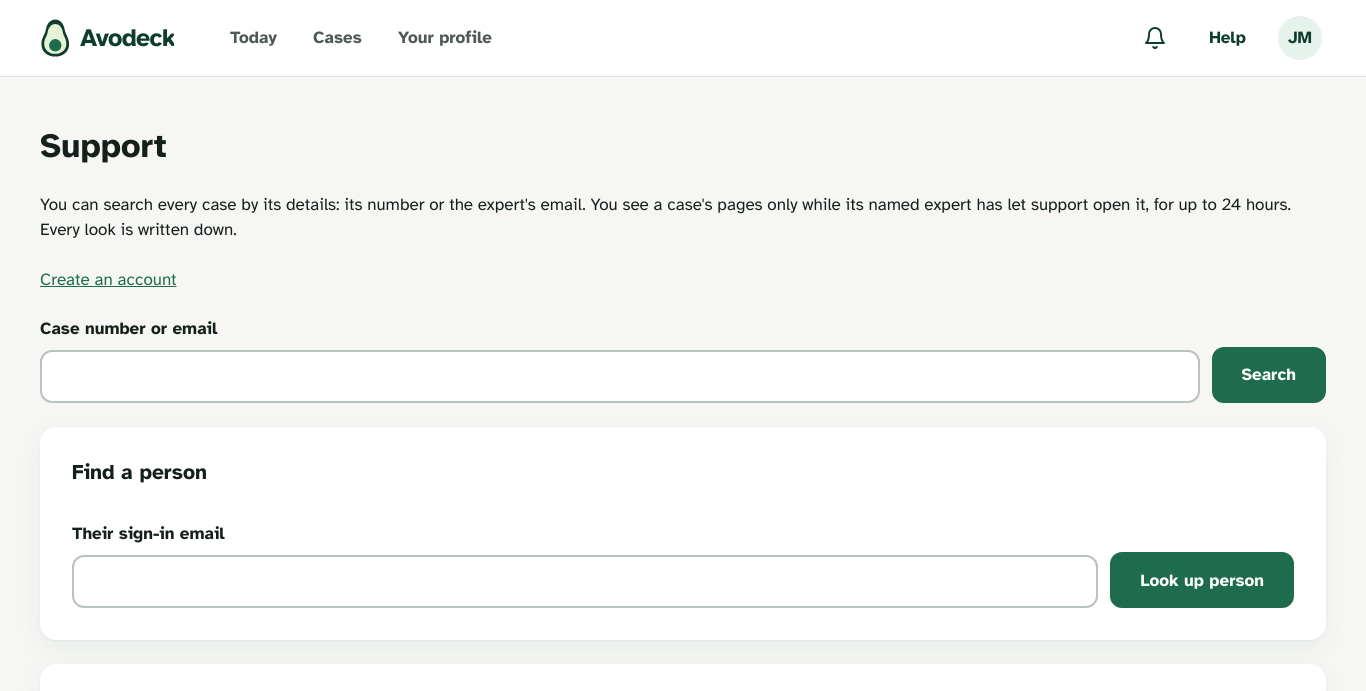
Test: the status is shown in plain words, never the raw code
Type "44444444-4444-4444-8444-444444444444" into the field labelled "Case number or email".
click(620, 376); type("44444444-4444-4444-8444-444444444444")  # box [40,350,1200,403]
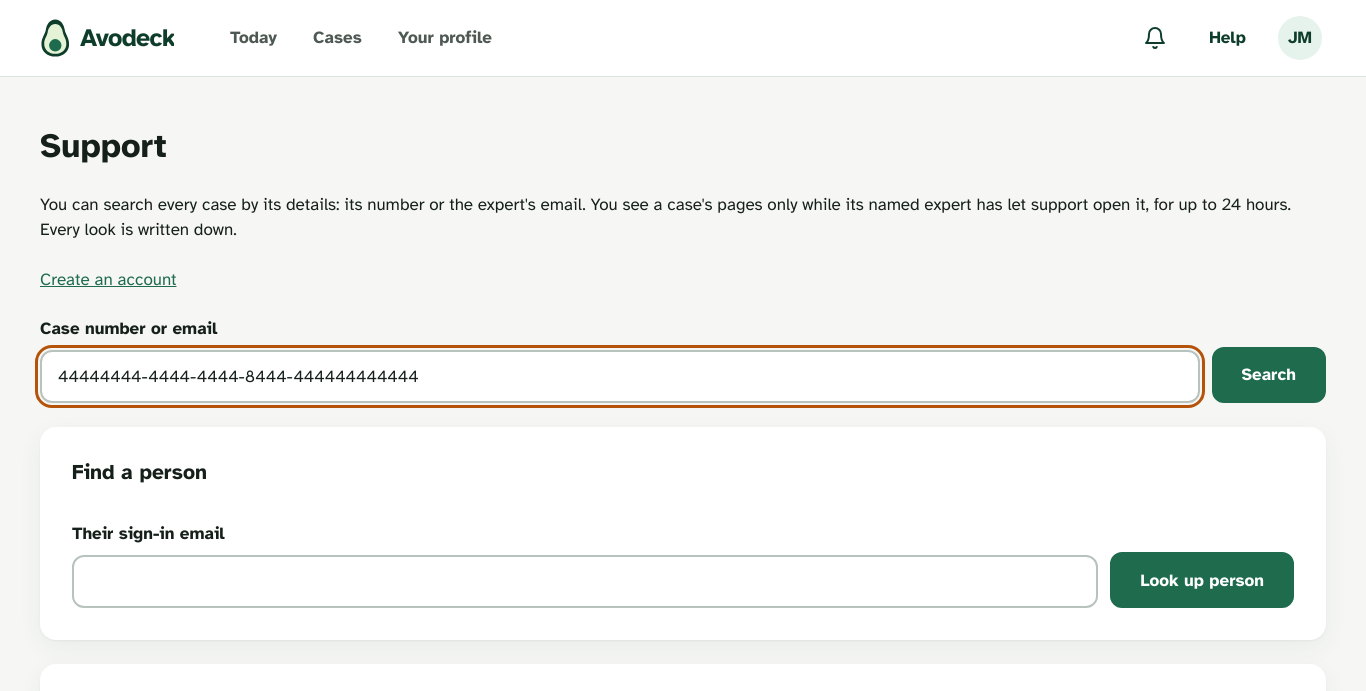
Click the button "Search".
click(1269, 375)  # box [1212,347,1326,403]
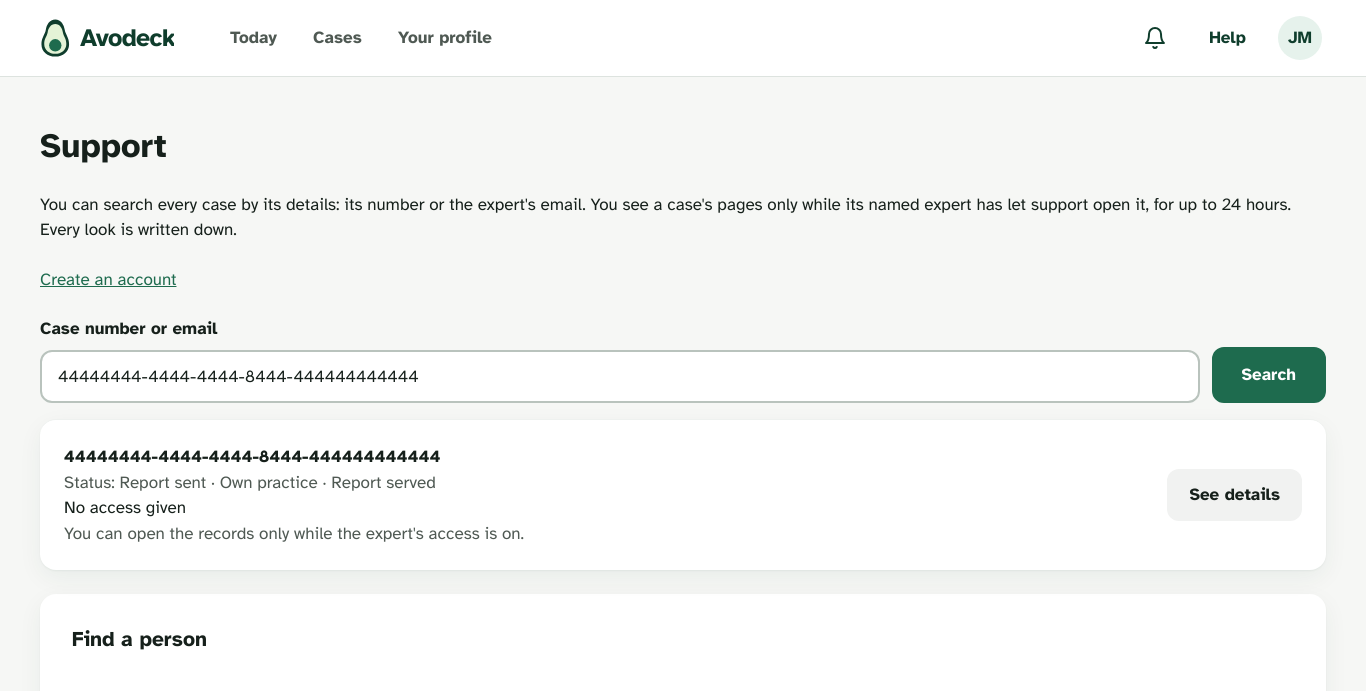
Expected: the 4th list item does not show "served ·", [40,419,1326,570]
Result: the 4th list item shows "Report sent" at [64,472,436,492]
